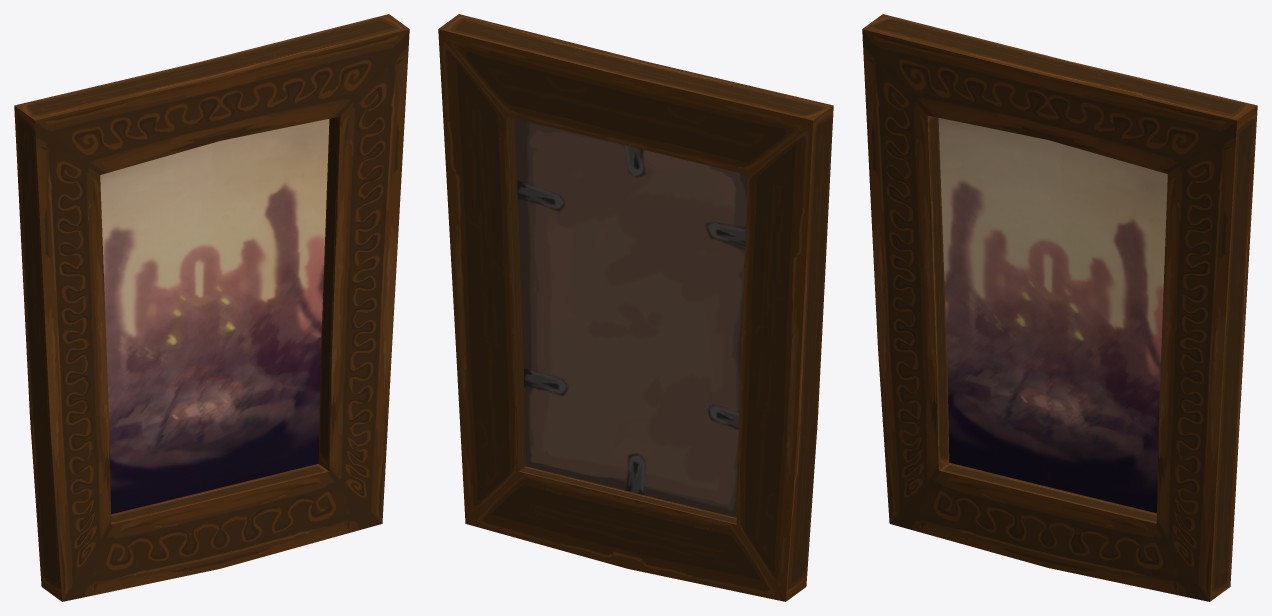
The model's file is SM_PROP_painting_interior_01.fbx.
3 renders of one model, left to right at view 1: azimuth 30°, elevation 25°; view 2: azimuth 150°, elevation 25°; view 3: azimuth 330°, elevation 25°, orthographic.
Visible parts, largest first — view 1: SM_PROP_painting_interior_01; view 2: SM_PROP_painting_interior_01; view 3: SM_PROP_painting_interior_01.
Part boxes in pixels (<box>): SM_PROP_painting_interior_01: <box>14,14,409,601</box>; SM_PROP_painting_interior_01: <box>438,14,833,601</box>; SM_PROP_painting_interior_01: <box>862,14,1257,601</box>.
Bounding box in the file's own units: 72.47 × 91.16 × 6.92.
